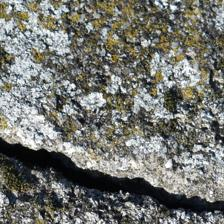Crack: (2, 66, 218, 156)
